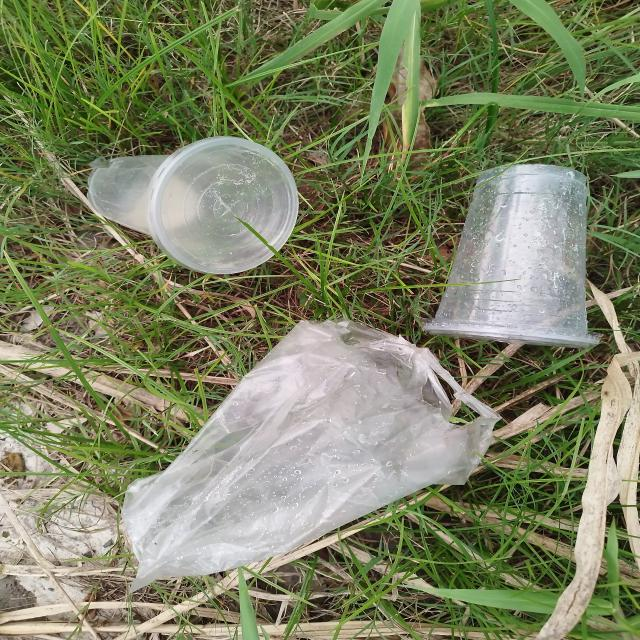bag: (120, 318, 504, 594)
plastic glass: (423, 164, 604, 346), (86, 136, 299, 274)
